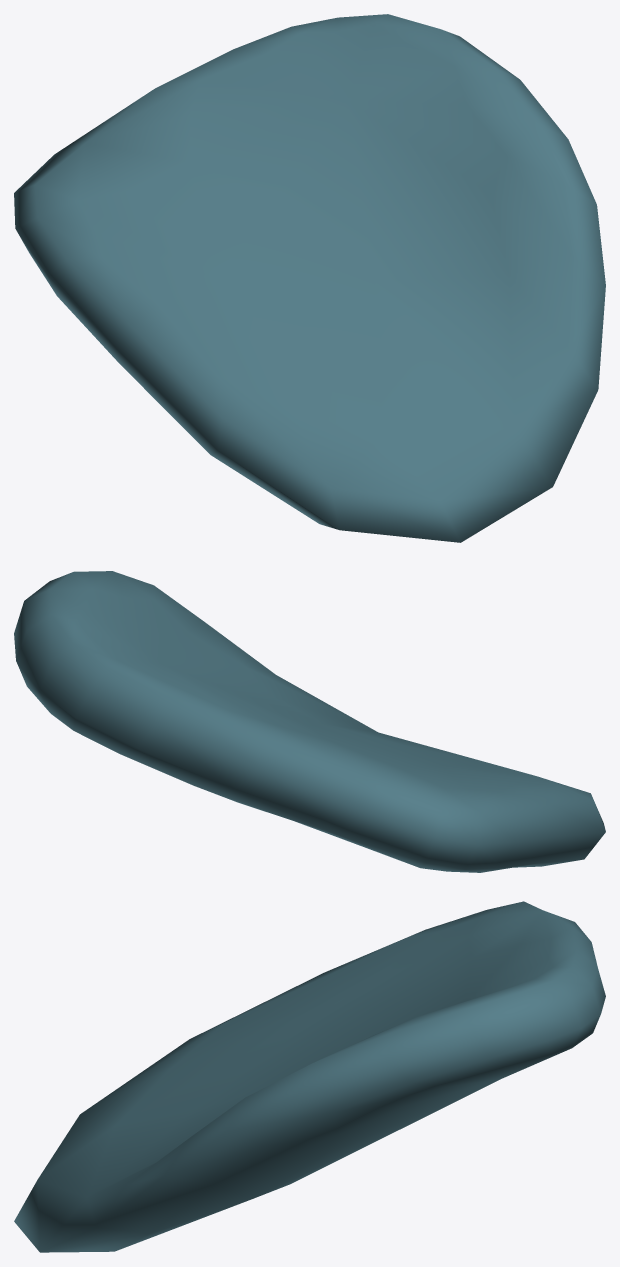
File: Extensor_digitorum-distal_phalanx-2d_finger.l_Generated_Mesh_Fr.glb
3 renders of one model, top to bottom at view 1: azimuth 30°, elevation 25°; view 2: azimuth 150°, elevation 25°; view 3: azimuth 270°, elevation 25°, orthographic. The views are drawn at different scales.
Visible parts, largest first — view 1: Extensor_digitorum-distal_phalanx-2d_finger.l_Generated_Mesh; view 2: Extensor_digitorum-distal_phalanx-2d_finger.l_Generated_Mesh; view 3: Extensor_digitorum-distal_phalanx-2d_finger.l_Generated_Mesh.
Boxes of the visible parts, left/top/right/bottom form: Extensor_digitorum-distal_phalanx-2d_finger.l_Generated_Mesh: left=14, top=14, right=605, bottom=542; Extensor_digitorum-distal_phalanx-2d_finger.l_Generated_Mesh: left=14, top=571, right=605, bottom=872; Extensor_digitorum-distal_phalanx-2d_finger.l_Generated_Mesh: left=14, top=901, right=605, bottom=1252.
Size of the model in its own units: 0.00325 by 0.00216 by 0.00356.
